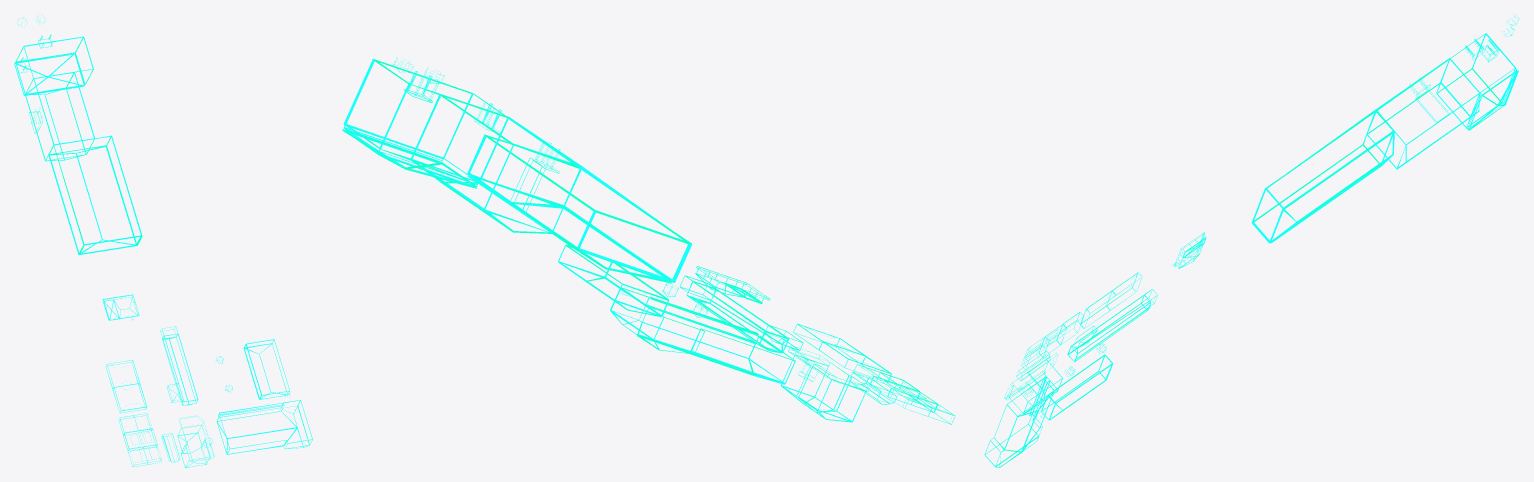
The picture shows the model from 3 angles, left to right: view 1: azimuth 30°, elevation 25°; view 2: azimuth 150°, elevation 25°; view 3: azimuth 270°, elevation 25°; orthographic projection. The views are drawn at different scales.
Visible parts, largest first — view 1: SketchUp.025; view 2: SketchUp.025; view 3: SketchUp.025.
Part boxes in pixels (x1,y1,x2,y2): SketchUp.025: [14, 14, 312, 467]; SketchUp.025: [342, 57, 955, 424]; SketchUp.025: [984, 14, 1519, 467].
Bounding box in the file's own units: 4.08 × 7.13 × 8.6.
